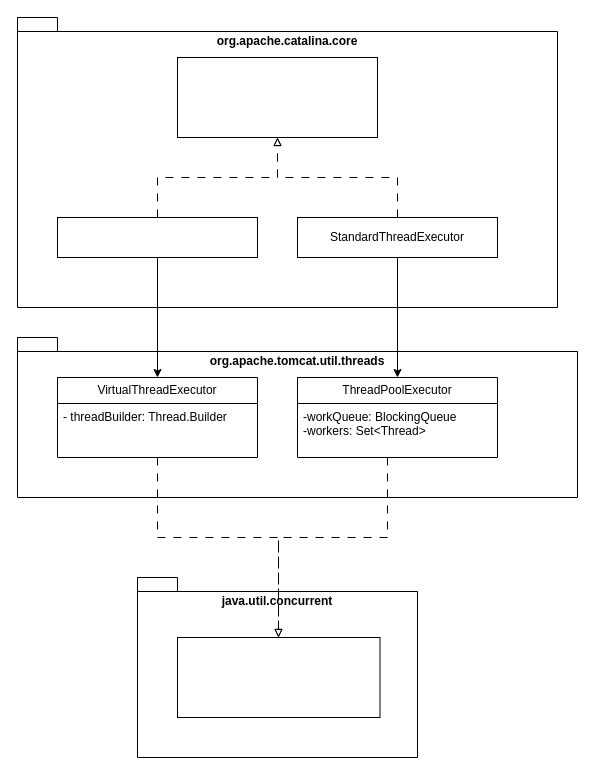
The diagram is 595 pixels wide and 775 high, and some of its shapes have lost their labels. Each missing label, with the centre of its shape:
<<abstract>> AbstractExecutorService + execute(runnable: Runnable): (x=278, y=677)
<<Interface>> Executor + execute(runnable: Runnable): (x=277, y=97)
StandardVirtualThreadExecutor: (x=157, y=237)
